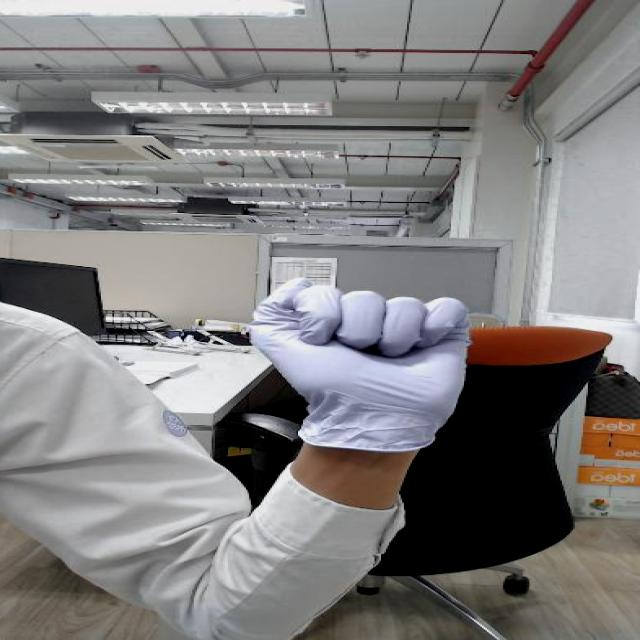glove: (217, 277, 496, 428)
